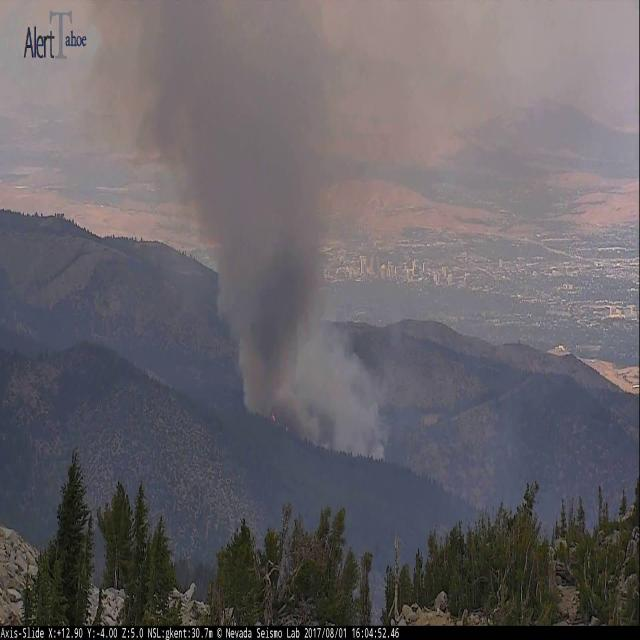smoke: (93, 1, 404, 472)
